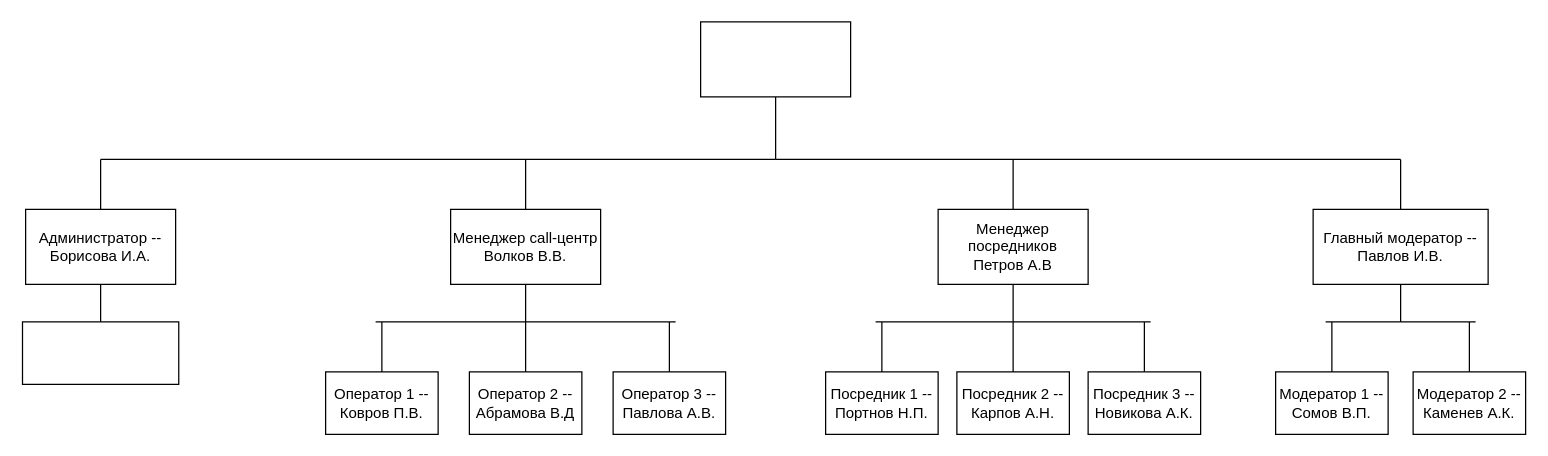
This 1548x456 diagram has some shape labels left out. Here are the shapes that lost their labels. From the top down, the centre of each, then its label:
At point 775,59: "Директор -- Иванов А.А.".
At point 100,352: "Бухгалтер -- Говорова В.Р.".
